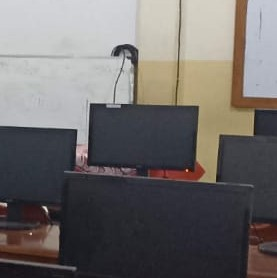monitor: (59, 171, 254, 275), (86, 103, 199, 174), (0, 126, 78, 207), (216, 134, 277, 222)
